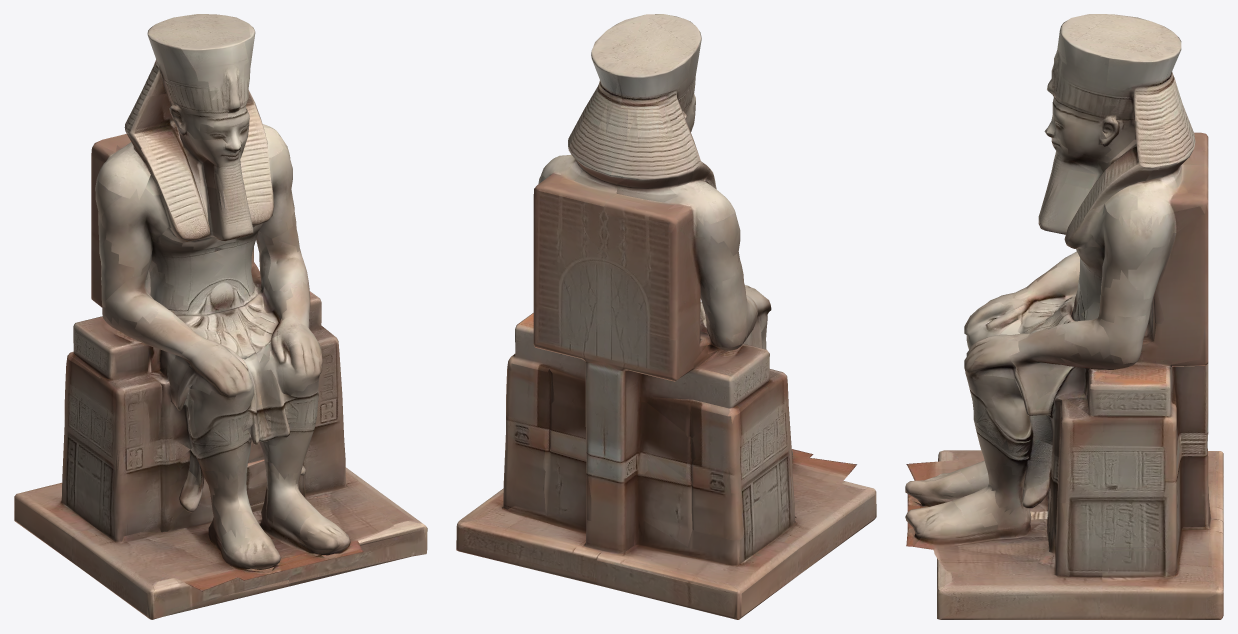
Rendered from coloso.glb.
The picture shows the model from 3 angles, left to right: view 1: azimuth 30°, elevation 25°; view 2: azimuth 150°, elevation 25°; view 3: azimuth 270°, elevation 25°; orthographic projection. The views are drawn at different scales.
Bounding box in the file's own units: 1.11 × 1.91 × 1.06.
Materials: 1 (1 with a texture image).
